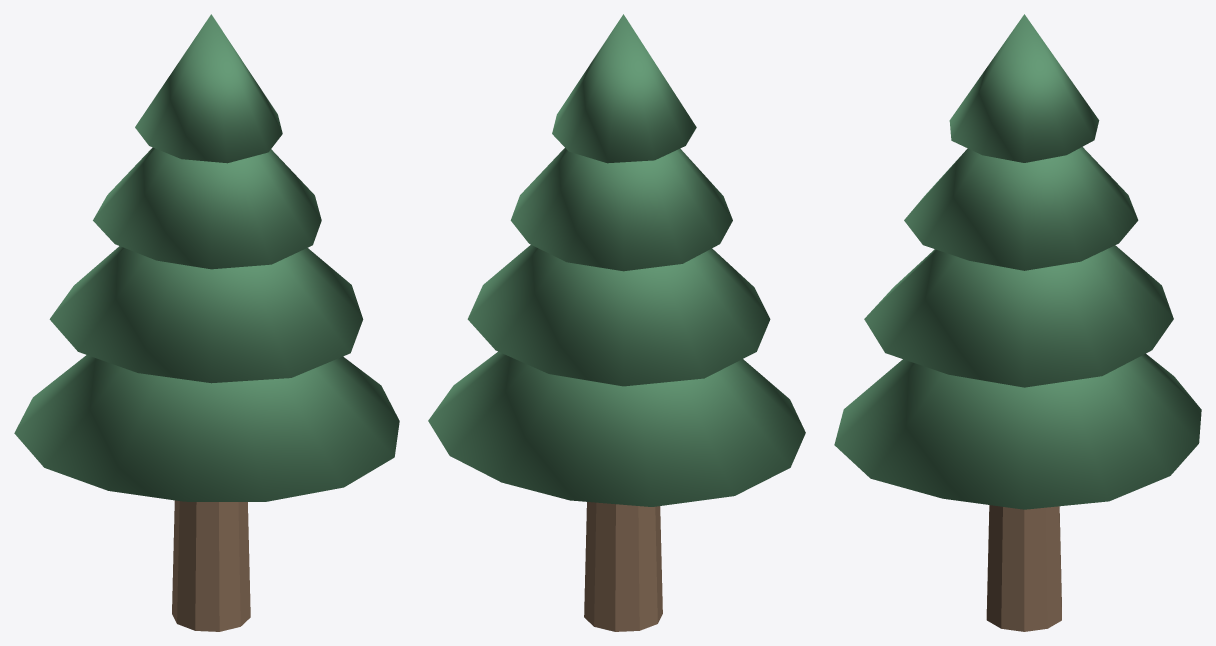
File: pine.glb
The picture shows the model from 3 angles, left to right: view 1: azimuth 30°, elevation 25°; view 2: azimuth 150°, elevation 25°; view 3: azimuth 270°, elevation 25°; orthographic projection.
Visible parts, largest first — view 1: Pine_Canopy, Pine_Trunk; view 2: Pine_Canopy, Pine_Trunk; view 3: Pine_Canopy, Pine_Trunk.
Part boxes in pixels (left/top/right/bottom): Pine_Canopy: left=14, top=14, right=399, bottom=501; Pine_Trunk: left=172, top=500, right=250, bottom=631; Pine_Canopy: left=428, top=14, right=805, bottom=506; Pine_Trunk: left=584, top=502, right=662, bottom=631; Pine_Canopy: left=834, top=14, right=1201, bottom=509; Pine_Trunk: left=986, top=505, right=1061, bottom=631.
Size of the model in its own units: 1.96 by 3.35 by 1.85.
